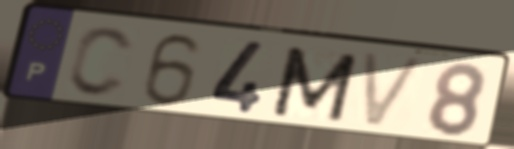4: (206, 38, 268, 118)
6: (138, 30, 207, 109)
8: (424, 60, 489, 139)
C: (64, 24, 138, 101)
M: (267, 44, 362, 125)
V: (358, 49, 431, 132)
